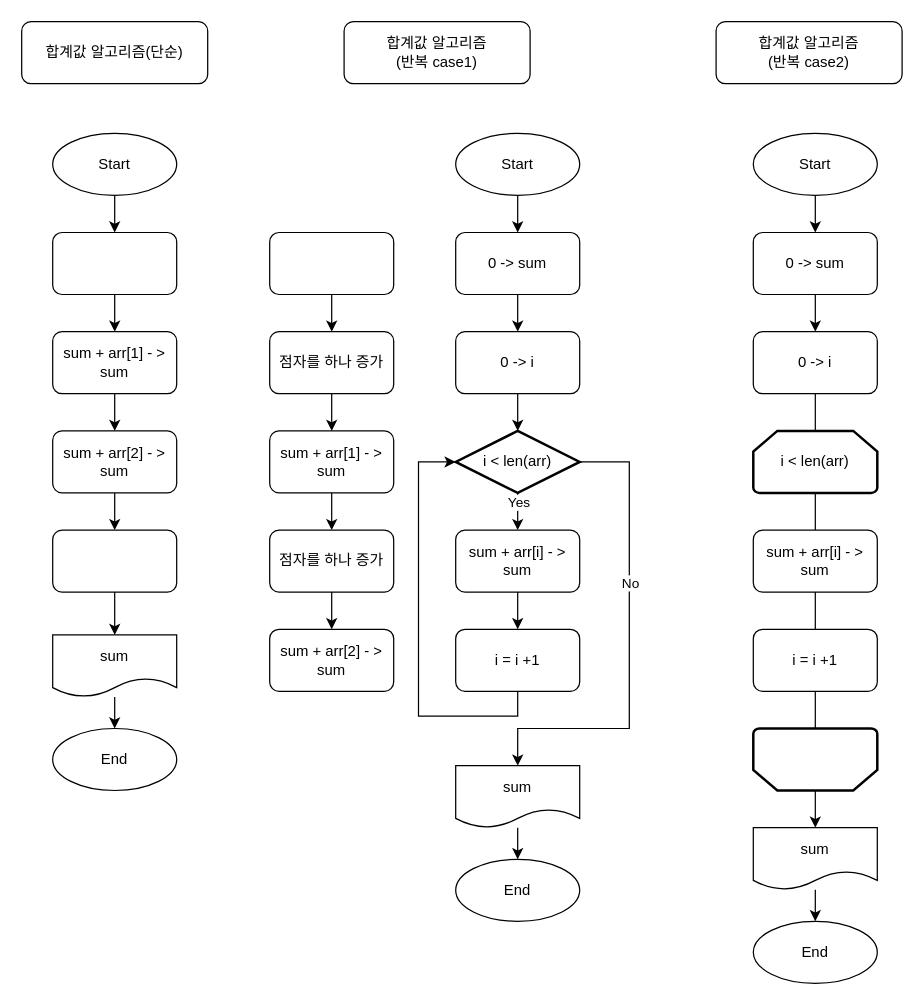
Some shapes in this 924 by 1006 pixel diagram are drawn without their labels. Here are the shapes that lost their labels. From the top down, the centre of each, then its label:
At (x=114, y=262): "arr[0]- > sum".
At (x=331, y=262): "sum + arr[0] - > sum".
At (x=114, y=560): "sum + arr[3] - > sum".
